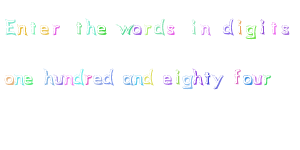E: (3, 14, 18, 40)
a: (121, 72, 134, 90)
d: (220, 15, 236, 40), (142, 62, 156, 89), (73, 61, 85, 90), (103, 63, 116, 88), (153, 16, 166, 40)
e: (161, 70, 175, 93), (96, 21, 109, 40), (39, 20, 51, 39), (24, 71, 36, 88), (93, 70, 103, 90)
f: (232, 64, 243, 88)
g: (245, 21, 257, 44), (181, 74, 194, 93)
h: (193, 64, 205, 88), (43, 65, 54, 91)
i: (187, 18, 199, 40), (257, 16, 268, 37), (234, 19, 246, 38), (172, 65, 182, 86)
n: (197, 18, 214, 39), (133, 69, 145, 90), (17, 19, 28, 37), (15, 71, 25, 89), (65, 70, 74, 90)
o: (132, 22, 144, 39), (4, 72, 15, 88), (242, 73, 253, 87)
r: (51, 17, 63, 39), (142, 20, 153, 40), (262, 72, 274, 88), (83, 72, 93, 86)
s: (166, 22, 177, 40), (280, 22, 293, 37)
t: (85, 15, 96, 39), (74, 18, 85, 39), (202, 67, 213, 88), (268, 19, 280, 38), (29, 17, 39, 38)
u: (53, 69, 65, 89), (253, 72, 263, 89)
w: (115, 20, 132, 40)
y: (212, 71, 223, 93)
